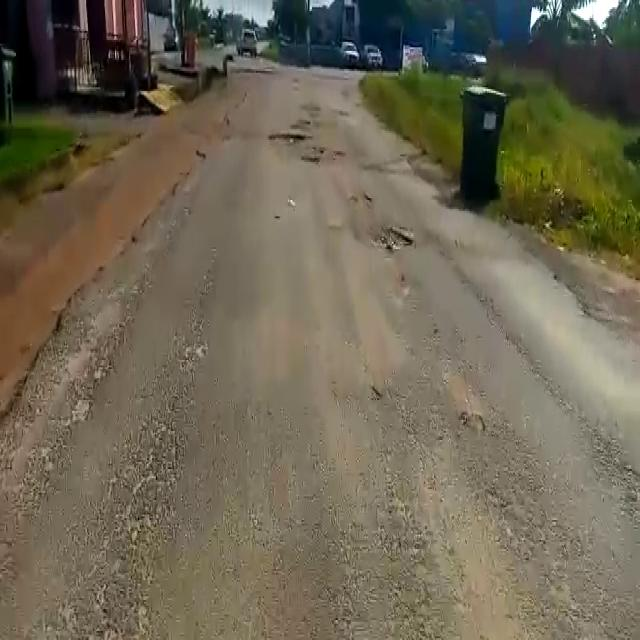Pothole: (374, 225, 422, 252), (267, 129, 308, 142), (299, 154, 322, 167)
